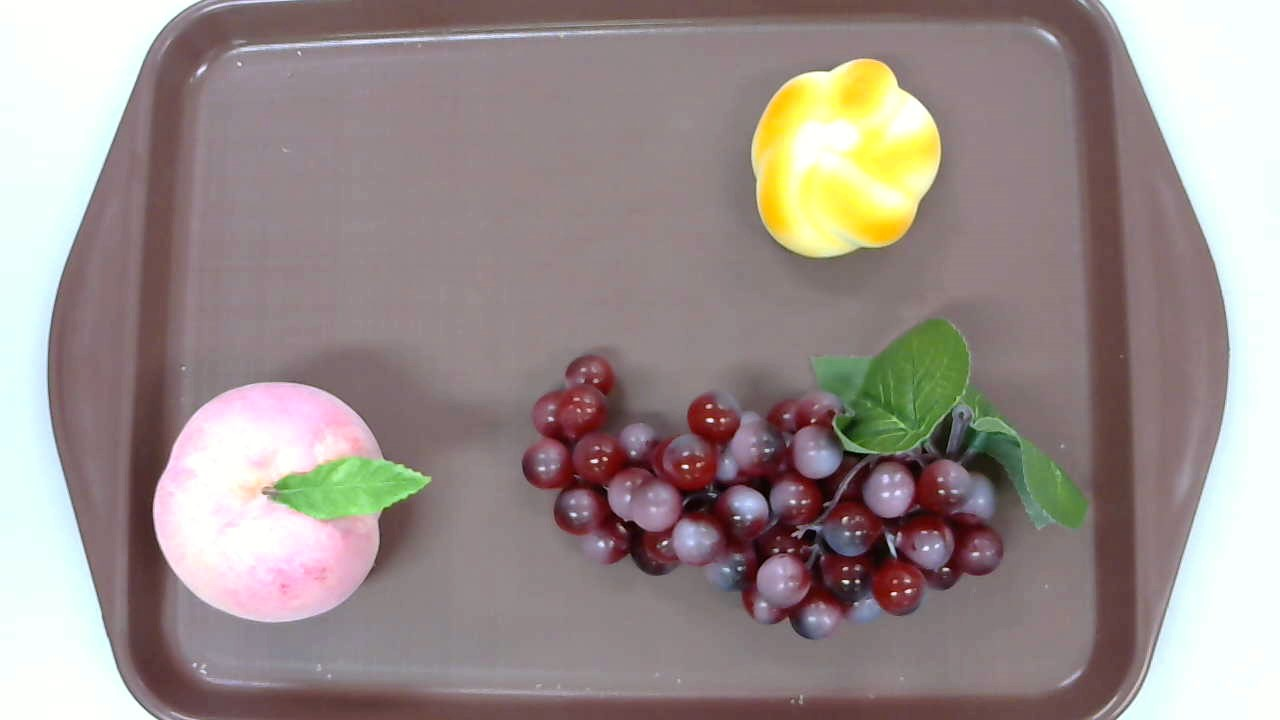grape: (521, 316, 1090, 642)
peach: (152, 380, 431, 623)
twist bread: (749, 59, 941, 259)
